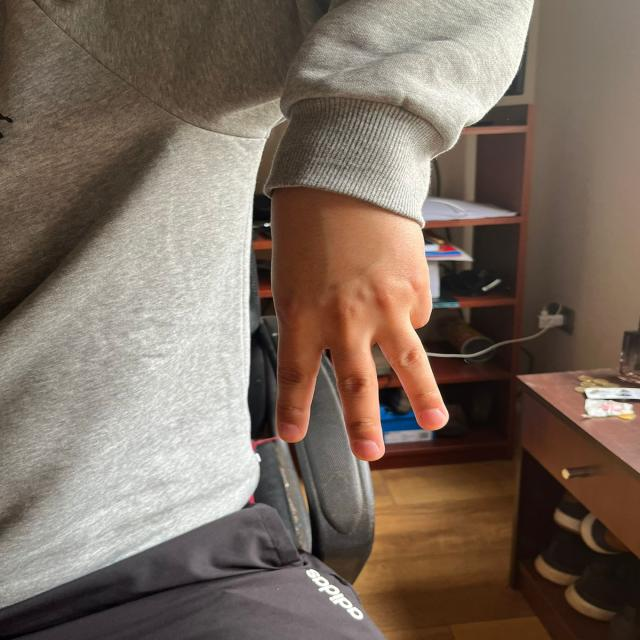M: (261, 131, 460, 467)
